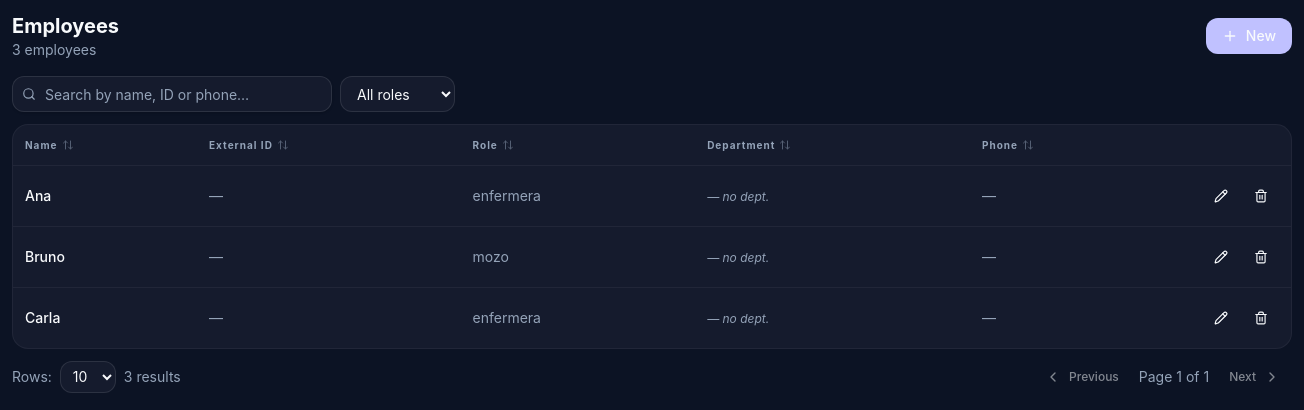
Scenario: EmployeesPage › filtro por rol restringe la lista a un rol y deriva las opciones de los datos
Expected: the link "Ana" is shown, [25, 186, 51, 204]
Select "mozo" in the dropdown with test id "role-filter" at (398, 94), box [340, 76, 455, 112]
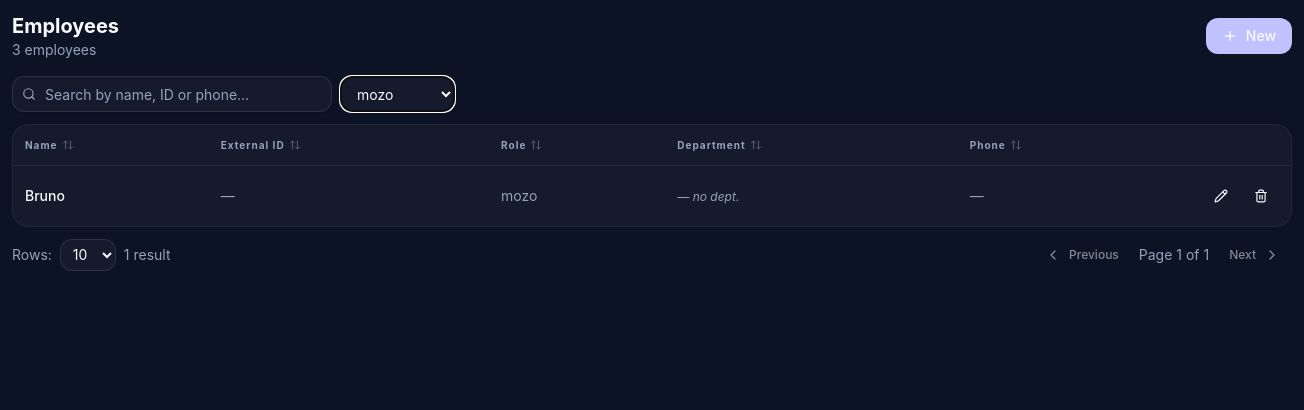
Expected: the link "Bruno" is shown, [25, 186, 65, 204]
Now the link "Ana" is gone
Now the link "Carla" is gone
